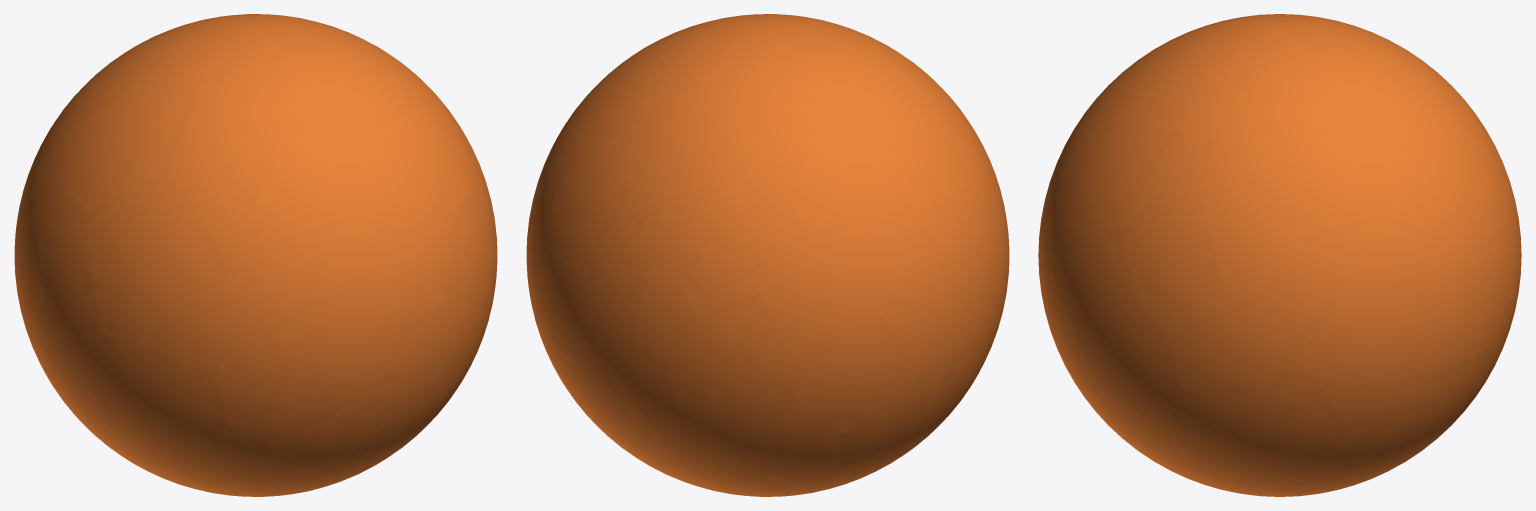
The model's file is FracturedSphere.fbx.
3 renders of one model, left to right at view 1: azimuth 30°, elevation 25°; view 2: azimuth 150°, elevation 25°; view 3: azimuth 270°, elevation 25°, orthographic.
Visible parts, largest first — view 1: Icosphere_cell.058, Icosphere_cell.048, Icosphere_cell.038, Icosphere_cell.132, Icosphere_cell.089, Icosphere_cell.033, Icosphere_cell.117, Icosphere_cell.087, Icosphere_cell.068, Icosphere_cell.021, Icosphere_cell.026, Icosphere_cell.128 (+26 smaller); view 2: Icosphere_cell.060, Icosphere_cell.132, Icosphere_cell.115, Icosphere_cell.065, Icosphere_cell.101, Icosphere_cell.090, Icosphere_cell.025, Icosphere_cell.135, Icosphere_cell.020, Icosphere_cell.073, Icosphere_cell.021, Icosphere_cell.102 (+30 smaller); view 3: Icosphere_cell.109, Icosphere_cell.134, Icosphere_cell.015, Icosphere_cell.114, Icosphere_cell.080, Icosphere_cell.095, Icosphere_cell.083, Icosphere_cell.062, Icosphere_cell.098, Icosphere_cell.128, Icosphere_cell.063, Icosphere_cell.085 (+24 smaller).
Part boxes in pixels (bbox=[...]): Icosphere_cell.058: bbox=[250, 101, 397, 279]; Icosphere_cell.048: bbox=[89, 177, 223, 338]; Icosphere_cell.038: bbox=[164, 66, 318, 211]; Icosphere_cell.132: bbox=[65, 59, 205, 210]; Icosphere_cell.089: bbox=[78, 334, 228, 458]; Icosphere_cell.033: bbox=[266, 278, 396, 412]; Icosphere_cell.117: bbox=[136, 263, 280, 374]; Icosphere_cell.087: bbox=[217, 331, 344, 450]; Icosphere_cell.068: bbox=[357, 185, 453, 308]; Icosphere_cell.021: bbox=[38, 186, 100, 364]; Icosphere_cell.026: bbox=[385, 305, 470, 413]; Icosphere_cell.128: bbox=[278, 45, 406, 127]; Icosphere_cell.060: bbox=[758, 215, 909, 353]; Icosphere_cell.132: bbox=[821, 55, 967, 198]; Icosphere_cell.115: bbox=[797, 103, 913, 236]; Icosphere_cell.065: bbox=[667, 20, 825, 118]; Icosphere_cell.101: bbox=[716, 103, 821, 242]; Icosphere_cell.090: bbox=[788, 315, 915, 432]; Icosphere_cell.025: bbox=[626, 111, 727, 227]; Icosphere_cell.135: bbox=[881, 252, 976, 377]; Icosphere_cell.020: bbox=[646, 375, 790, 472]; Icosphere_cell.073: bbox=[552, 126, 633, 272]; Icosphere_cell.021: bbox=[930, 185, 1004, 353]; Icosphere_cell.102: bbox=[711, 387, 839, 477]; Icosphere_cell.109: bbox=[1307, 274, 1454, 422]; Icosphere_cell.134: bbox=[1120, 131, 1232, 324]; Icosphere_cell.015: bbox=[1317, 109, 1440, 264]; Icosphere_cell.114: bbox=[1203, 86, 1374, 216]; Icosphere_cell.080: bbox=[1170, 289, 1314, 391]; Icosphere_cell.095: bbox=[1174, 371, 1345, 452]; Icosphere_cell.083: bbox=[1207, 150, 1300, 293]; Icosphere_cell.062: bbox=[1054, 218, 1149, 346]; Icosphere_cell.098: bbox=[1294, 223, 1410, 316]; Icosphere_cell.128: bbox=[1137, 40, 1247, 135]; Icosphere_cell.063: bbox=[1244, 49, 1408, 109]; Icosphere_cell.085: bbox=[1083, 318, 1182, 429].
Bounding box in the file's own units: 10017 × 10017 × 10017.
